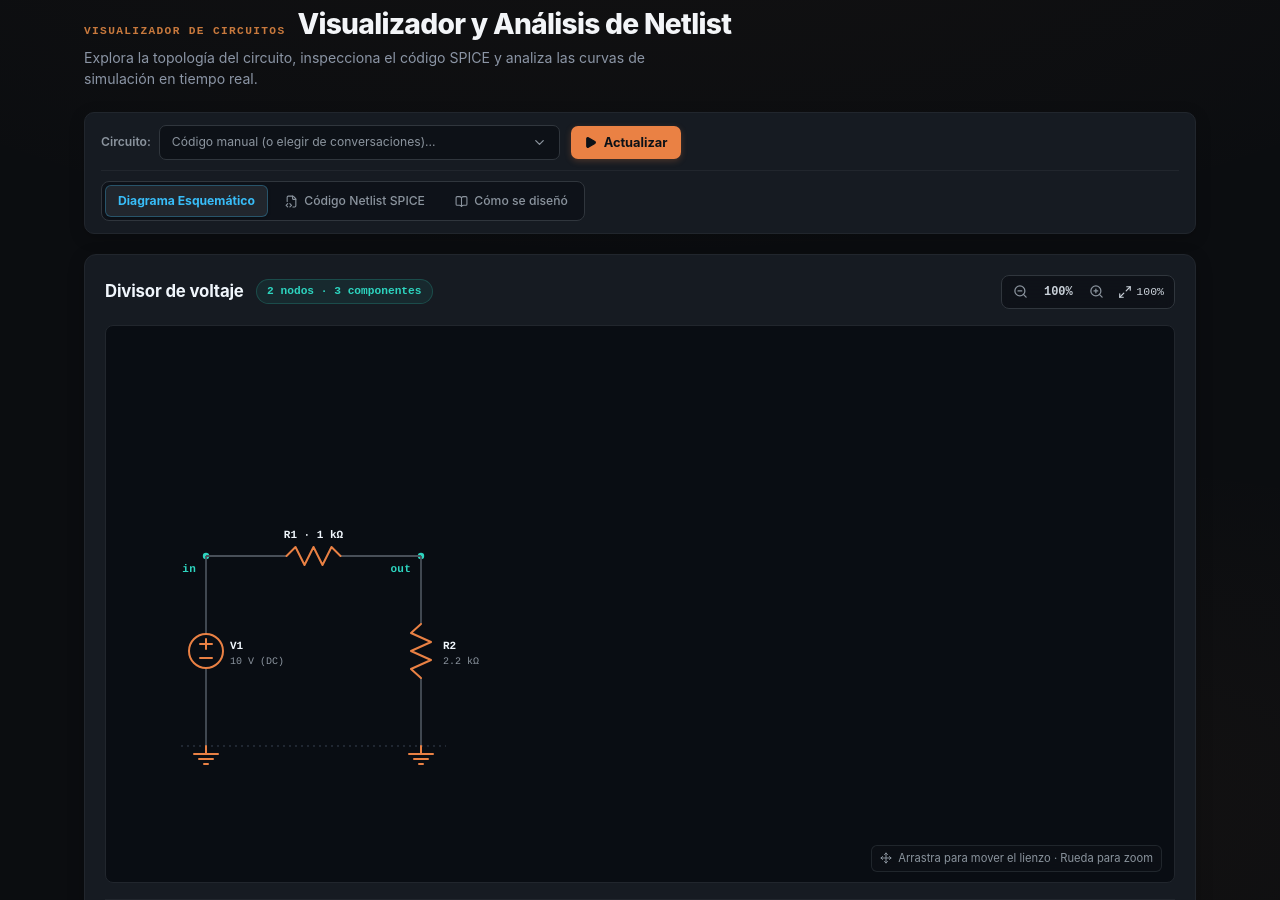
Test: VisualizerScreen › allows editing SPICE netlist and correctly draws multi-shunt Zener regulator circuit without collisions
Cambiar a la pestaña de código SPICE
Click the button "Código Netlist SPICE": (355,201) [272,185,438,217]
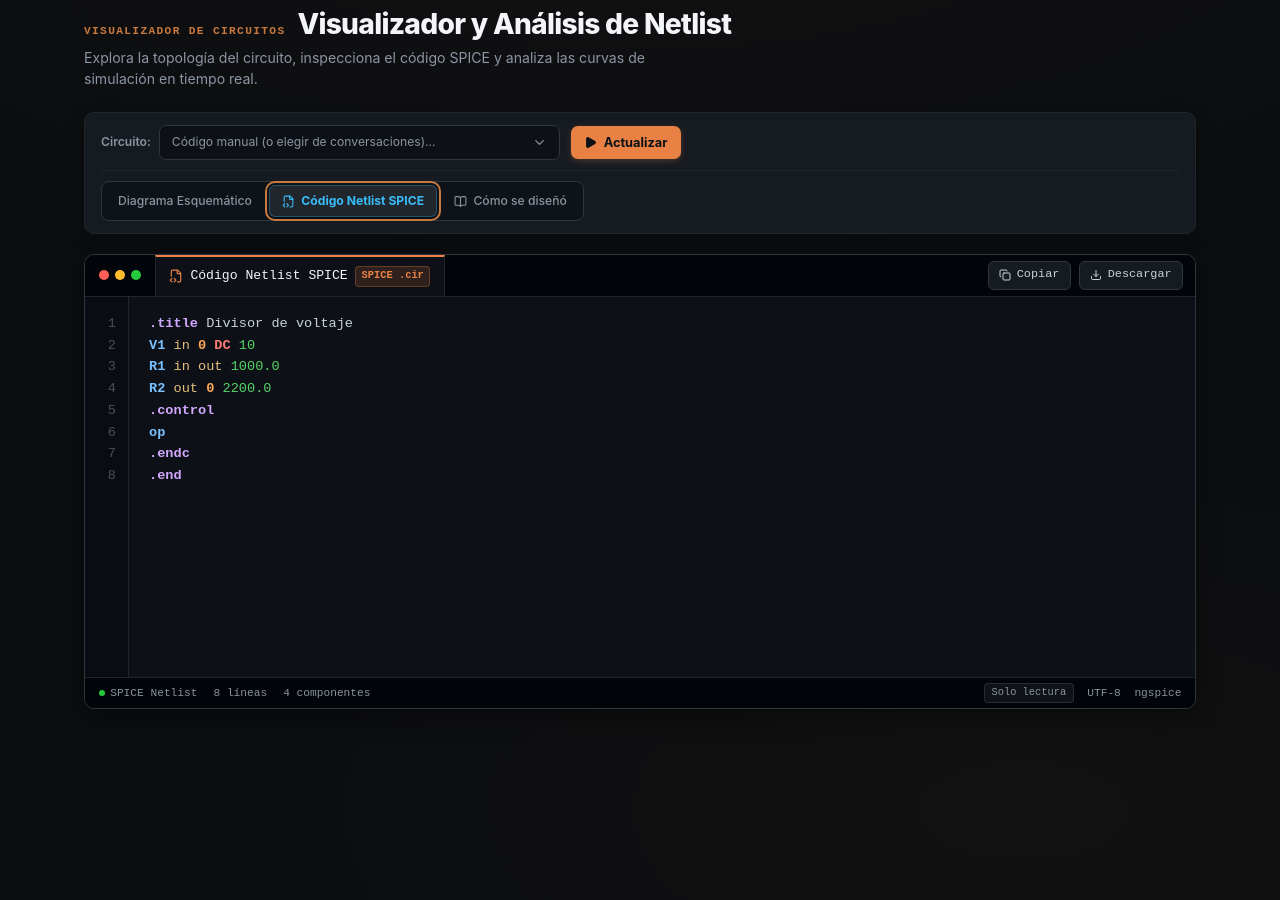
Expected: the element named "visor de código netlist spice" is shown, [84,254,1196,709]
Expected: the button "Copiar" is shown, [988,261,1071,290]
Regresar al esquema gráfico
Click the button "Diagrama Esquemático": (185,201) [105,185,265,217]
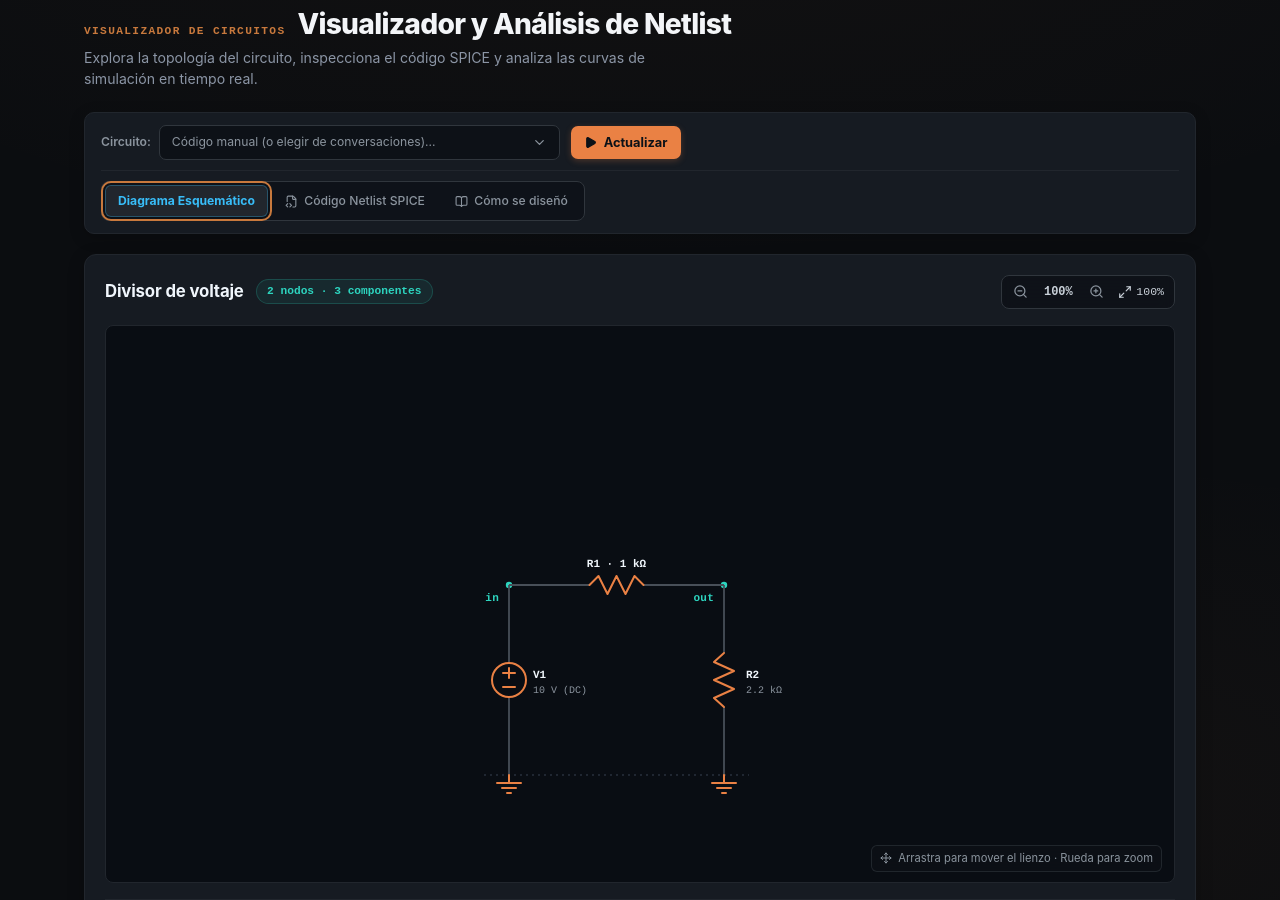
Expected: the heading "Divisor de voltaje" is shown, [105,279,244,304]
